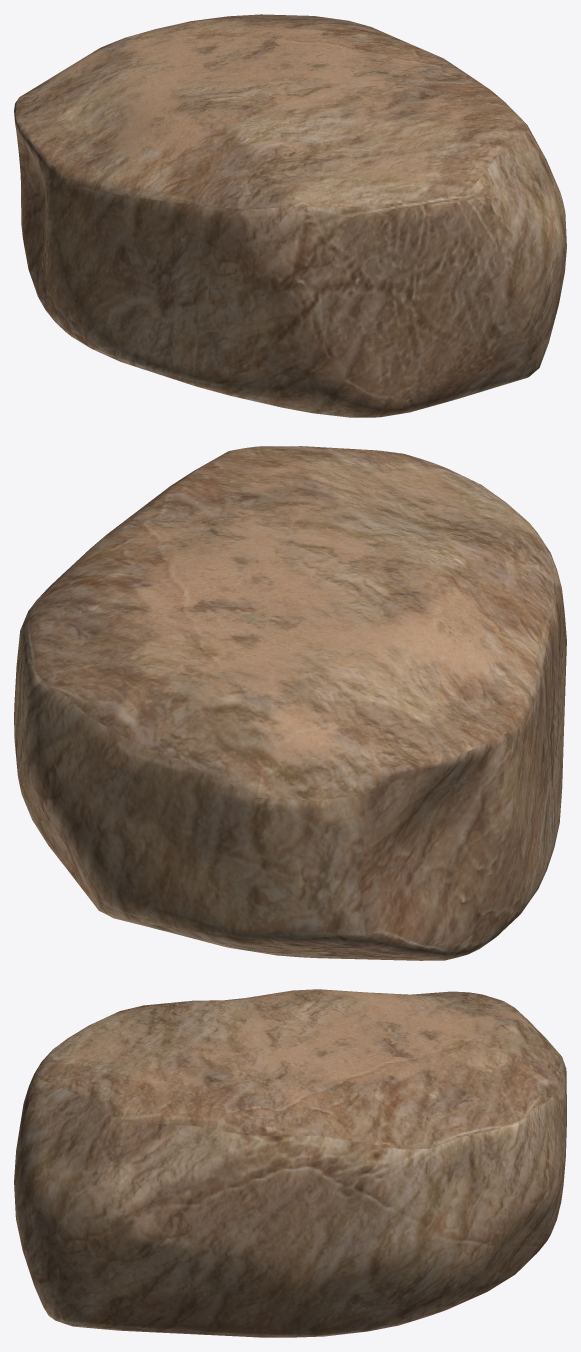
File: rock_small01.dae
3 views of the same model, one above another, from view 1: azimuth 30°, elevation 25°; view 2: azimuth 150°, elevation 25°; view 3: azimuth 270°, elevation 25° (orthographic). The views are drawn at different scales.
Visible parts, largest first — view 1: Mesh; view 2: Mesh; view 3: Mesh.
Part boxes in pixels (<box>): Mesh: <box>14,14,566,417</box>; Mesh: <box>14,446,566,960</box>; Mesh: <box>14,989,566,1337</box>.
Bounding box in the file's own units: 0.7723 × 0.4989 × 0.9529.
